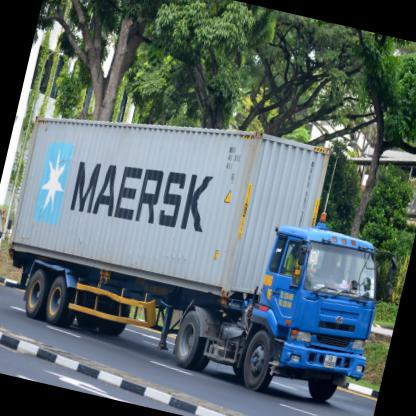truck: (235, 216, 397, 416)
